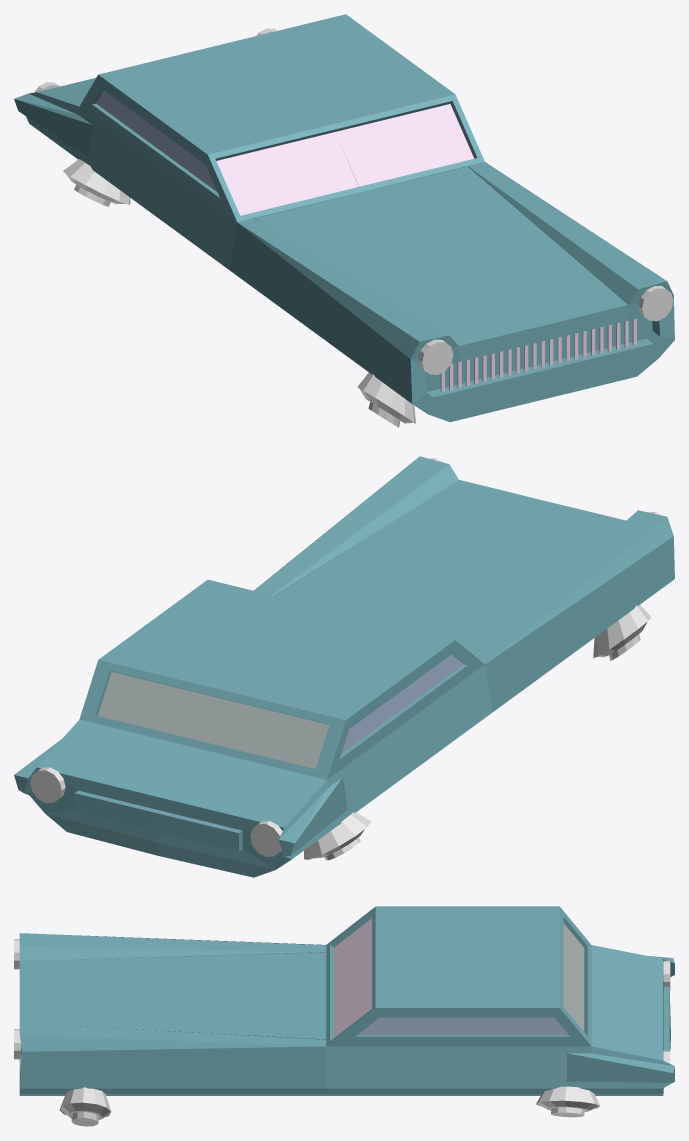
Rendered from nicki.fbx.
3 renders of one model, top to bottom at view 1: azimuth 30°, elevation 25°; view 2: azimuth 150°, elevation 25°; view 3: azimuth 270°, elevation 25°, orthographic. The views are drawn at different scales.
Parts seen in each view (by area): view 1: car, car.002, grid, car.004, lights.001, payload, Circle.001; view 2: car, car.005, car.004, lights, payload, Circle.001; view 3: car, car.004, car.002, car.005, payload, Circle.001, lights.001.
Part boxes in pixels (x1,y1,x2,y2): car: [14, 14, 674, 422]; car.002: [216, 104, 473, 215]; grid: [440, 319, 636, 392]; car.004: [96, 90, 217, 192]; lights.001: [418, 286, 673, 374]; payload: [357, 372, 415, 427]; Circle.001: [63, 159, 130, 206]; car: [14, 456, 674, 877]; car.005: [98, 672, 329, 768]; car.004: [341, 654, 463, 753]; lights: [30, 767, 282, 856]; payload: [593, 604, 650, 660]; Circle.001: [304, 812, 370, 860]; car: [19, 906, 674, 1095]; car.004: [357, 1017, 568, 1035]; car.002: [333, 918, 371, 1037]; car.005: [563, 923, 584, 1031]; payload: [59, 1087, 111, 1126]; Circle.001: [536, 1086, 599, 1117]; lights.001: [14, 939, 20, 1059].
Bounding box in the file's own units: 188 × 90.2 × 432.
